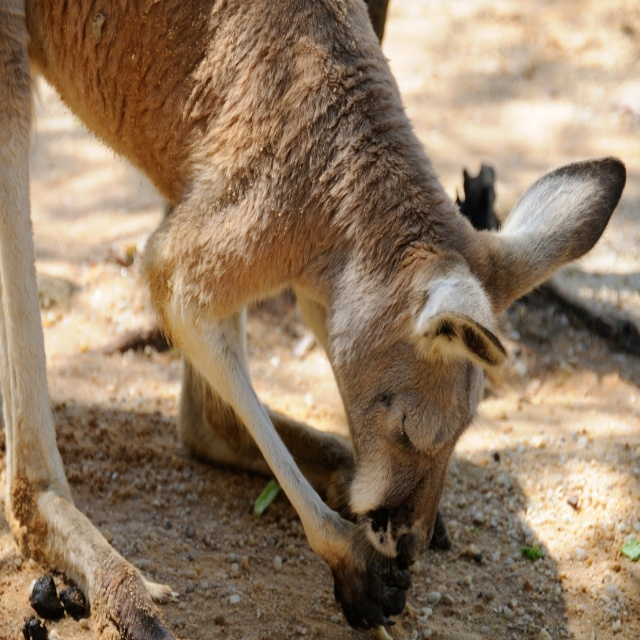Kangaroo: (0, 0, 625, 639)
